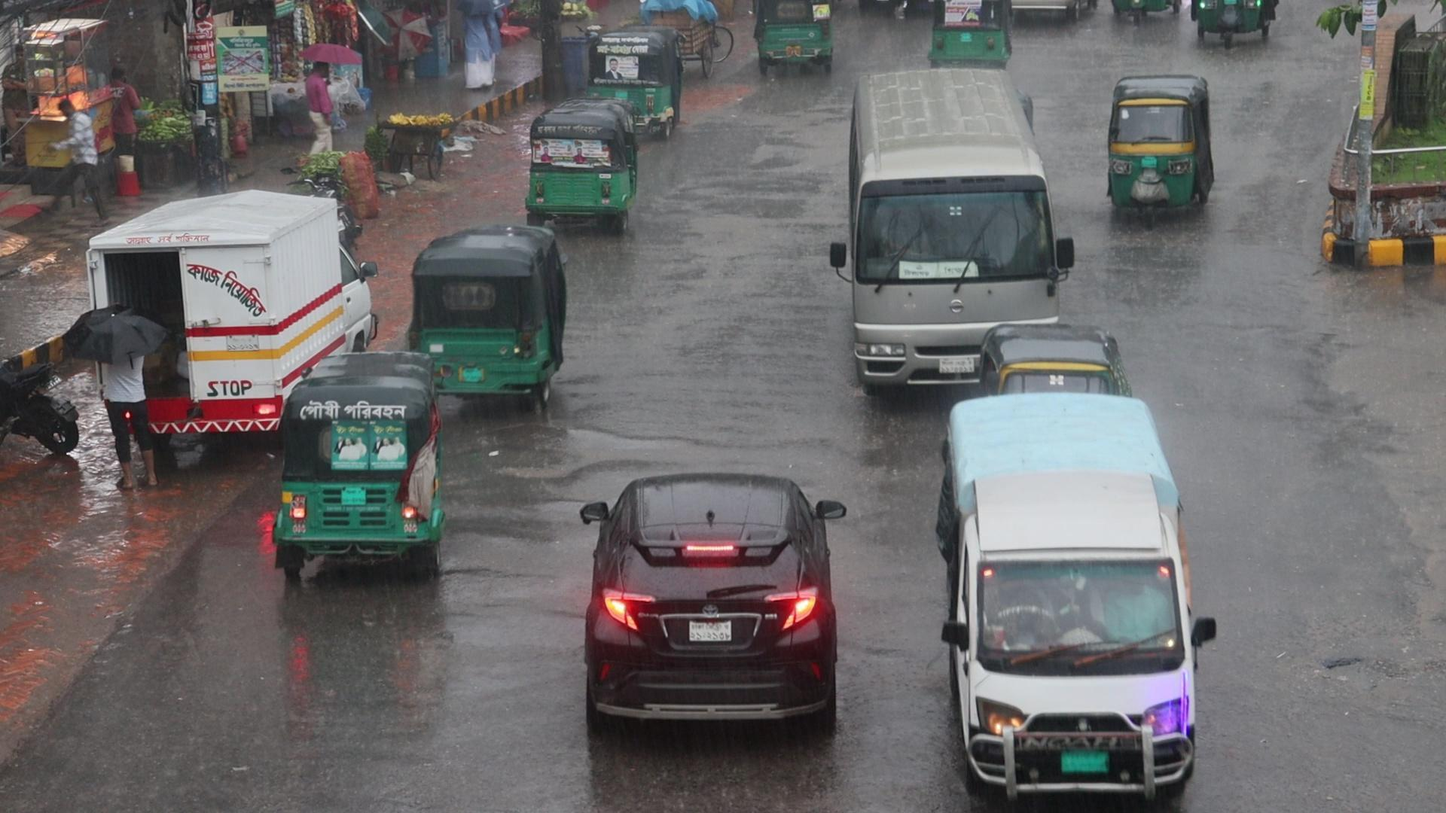Car: (936, 386, 1206, 812), (586, 466, 848, 762), (843, 59, 1067, 403)
